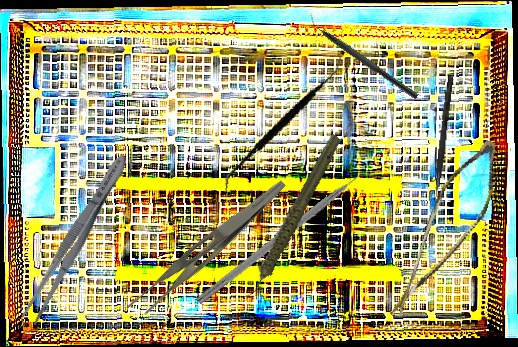Chopper: (195, 164, 381, 314), (303, 11, 424, 100)
Dressing Forceps: (123, 163, 288, 328), (17, 149, 135, 328)
Handpiece: (211, 131, 371, 302)
Hook Surgical: (431, 76, 454, 213)
Micro Scissor: (388, 128, 508, 336)
Spatula Surgical: (222, 37, 345, 212)
